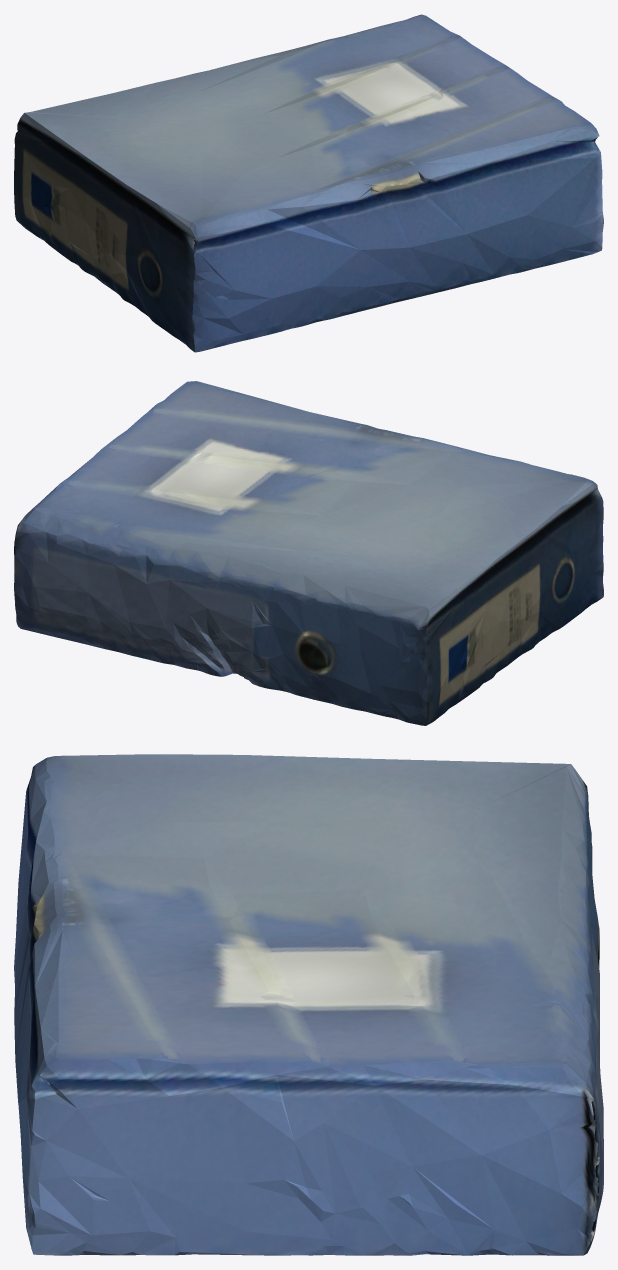
File: DocumentFolder.obj
3 renders of one model, top to bottom at view 1: azimuth 30°, elevation 25°; view 2: azimuth 150°, elevation 25°; view 3: azimuth 270°, elevation 25°, orthographic. The views are drawn at different scales.
Bounding box in the file's own units: 112 × 31.92 × 87.35.
Materials: 1 (1 with a texture image).
